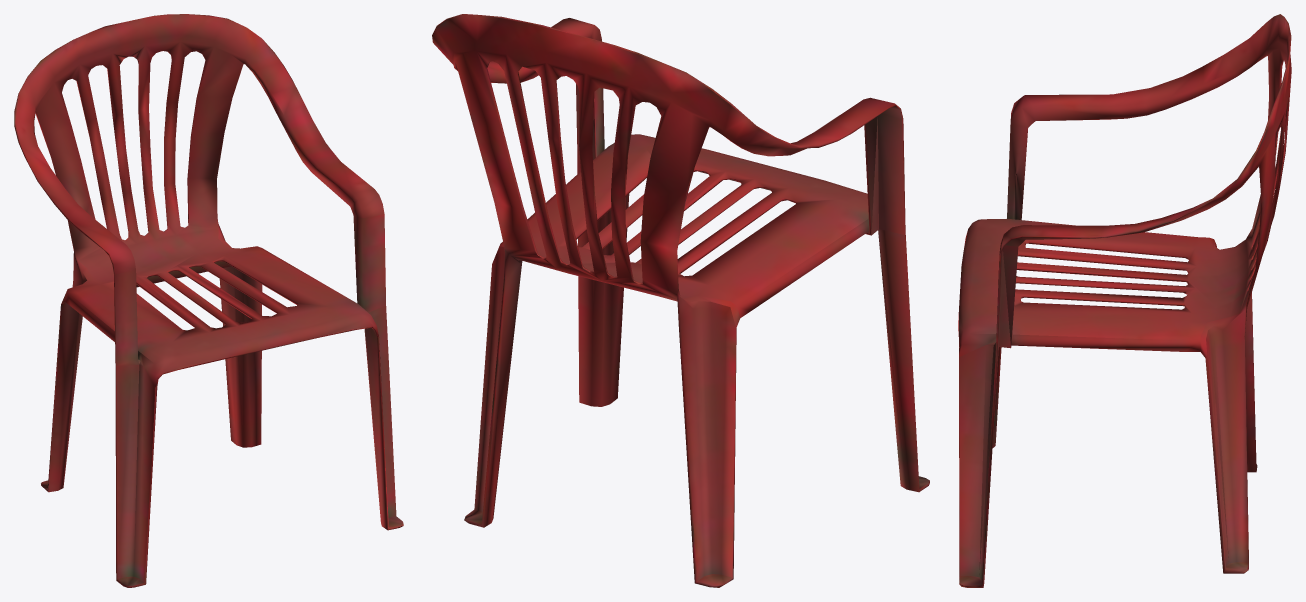
File: chair.glb
The picture shows the model from 3 angles, left to right: view 1: azimuth 30°, elevation 25°; view 2: azimuth 150°, elevation 25°; view 3: azimuth 270°, elevation 25°; orthographic projection. The views are drawn at different scales.
Visible parts, largest first — view 1: Plastic_Table_2_w; view 2: Plastic_Table_2_w; view 3: Plastic_Table_2_w.
Boxes of the visible parts, x1,y1,x2,y2 form: Plastic_Table_2_w: (14, 14, 403, 587); Plastic_Table_2_w: (432, 14, 929, 587); Plastic_Table_2_w: (958, 14, 1291, 587).
Bounding box in the file's own units: 0.5872 × 0.86 × 0.552.
1 material, 1 textured.
